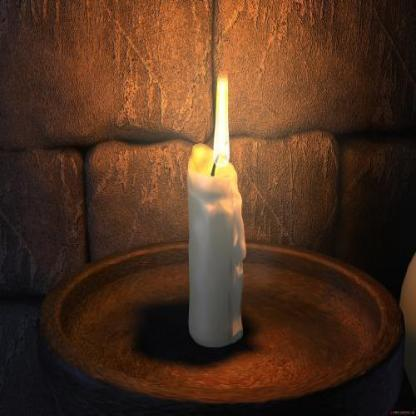fire: (206, 68, 240, 176)
